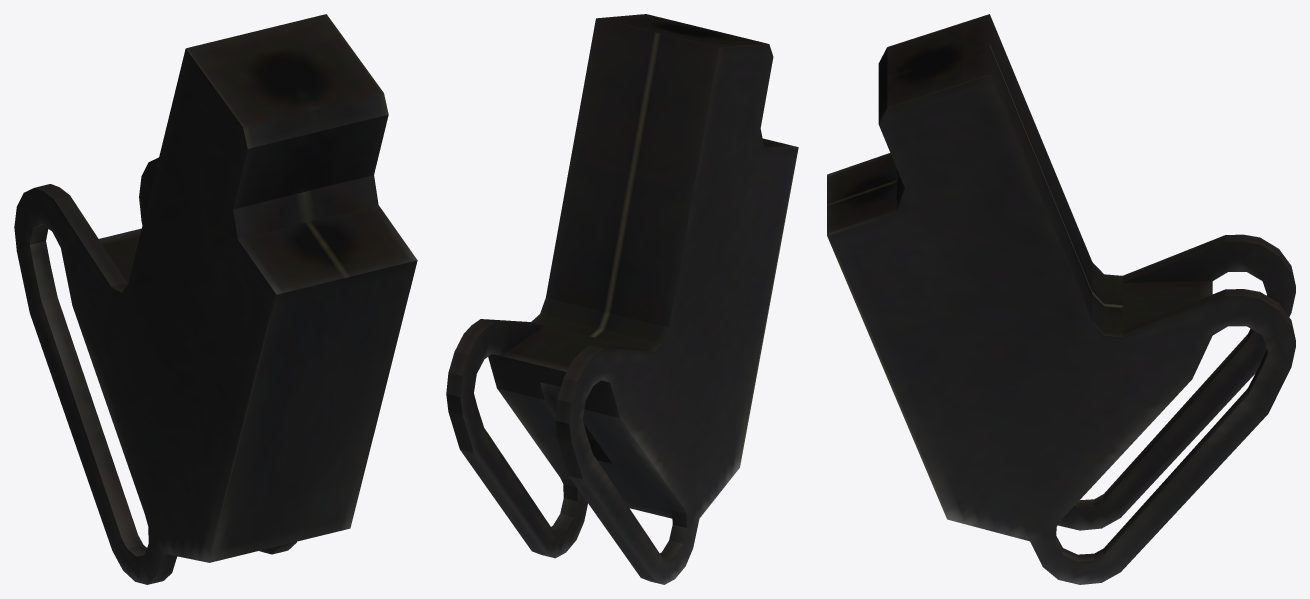
3 renders of one model, left to right at view 1: azimuth 30°, elevation 25°; view 2: azimuth 150°, elevation 25°; view 3: azimuth 270°, elevation 25°, orthographic. The views are drawn at different scales.
Parts seen in each view (by area): view 1: TW_5fc3f2d5900b1d5091531e57_PZ_Import; view 2: TW_5fc3f2d5900b1d5091531e57_PZ_Import; view 3: TW_5fc3f2d5900b1d5091531e57_PZ_Import.
Boxes of the visible parts, left/top/right/bottom form: TW_5fc3f2d5900b1d5091531e57_PZ_Import: left=14, top=14, right=417, bottom=584; TW_5fc3f2d5900b1d5091531e57_PZ_Import: left=446, top=14, right=798, bottom=584; TW_5fc3f2d5900b1d5091531e57_PZ_Import: left=827, top=14, right=1295, bottom=584.
Bounding box in the file's own units: 0.0124 × 0.0401 × 0.0481.
1 material, 1 textured.
